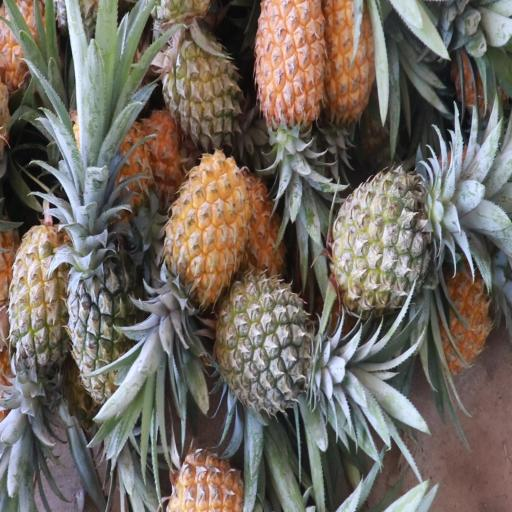------------------------------: (2, 212, 68, 451)
Pineapple - v8 v1: (154, 157, 259, 344), (254, 0, 326, 213), (329, 0, 384, 163)
